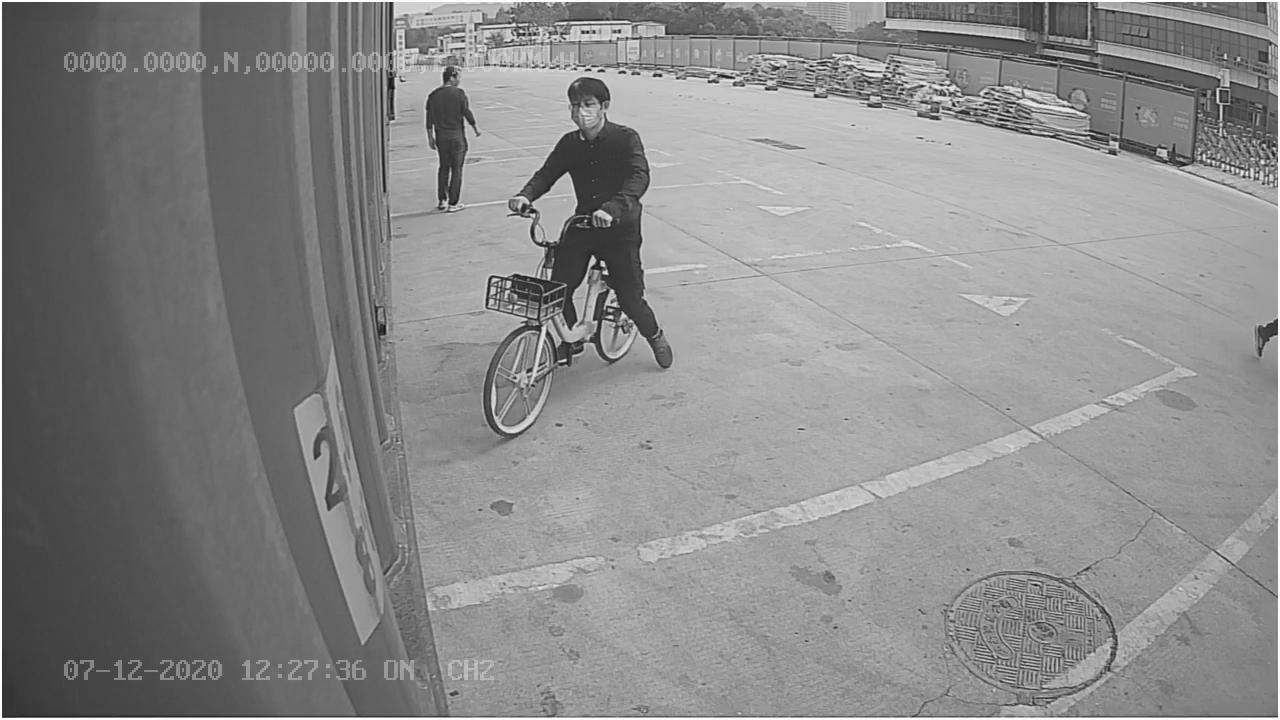person: (418, 62, 483, 219)
